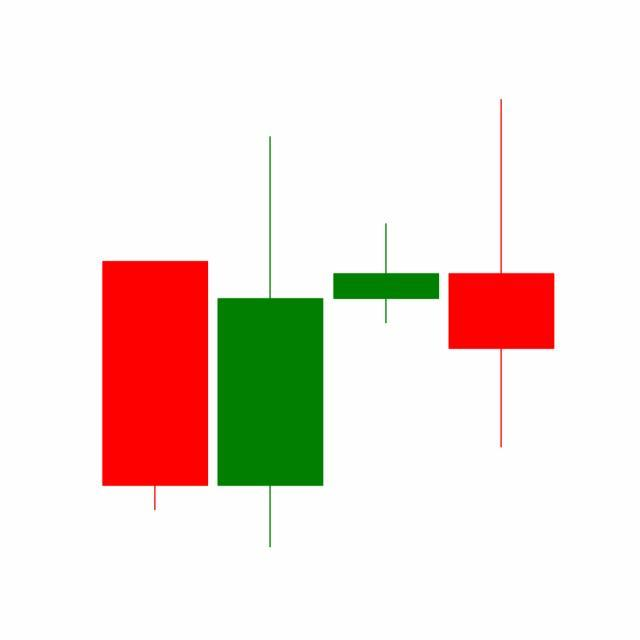Gravestone Doji: (329, 223, 445, 326)
